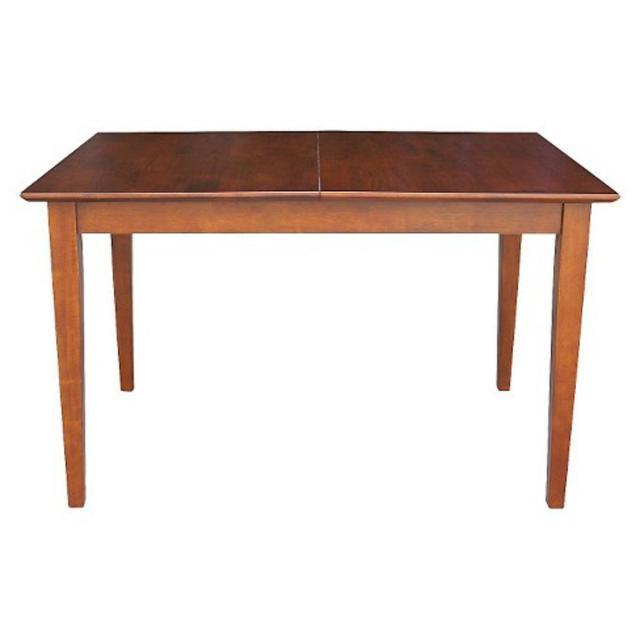table: (8, 113, 628, 540)
